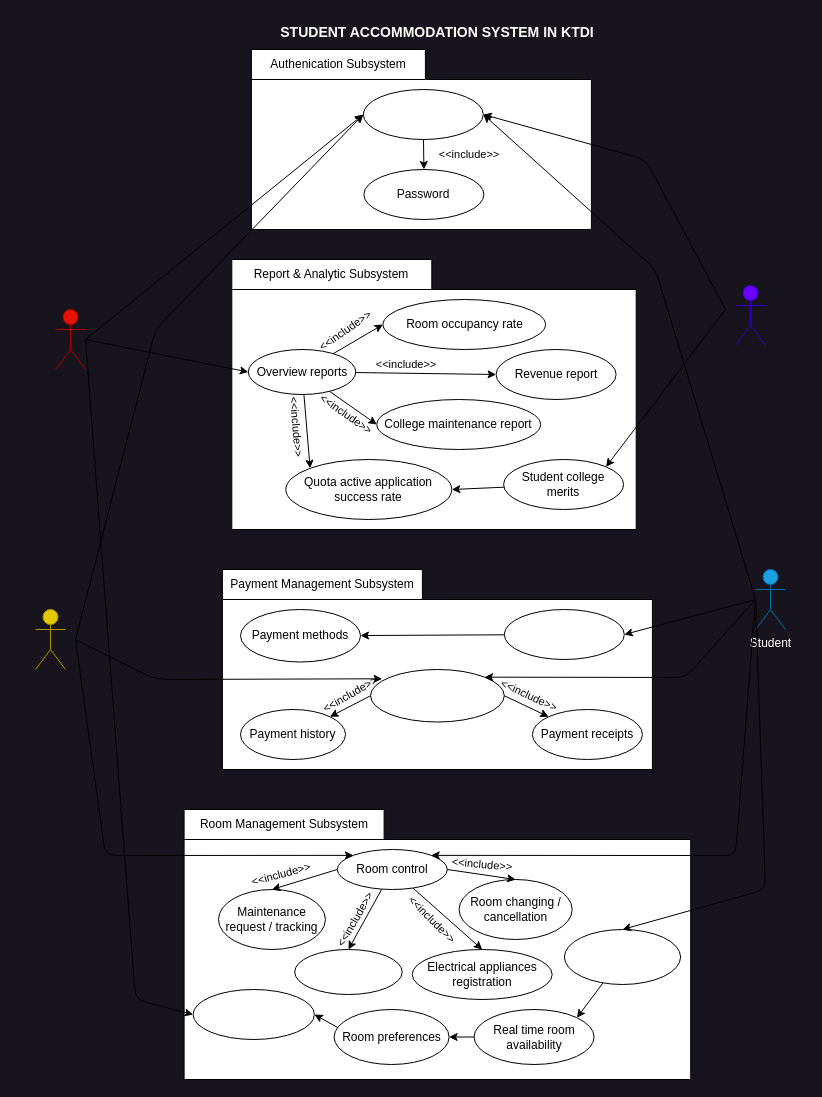
This 822x1097 diagram has some shape labels left out. Here are the shapes that lost their labels. From the top down, the box of each, then its label:
(362, 88, 483, 140): User Sign in / Login
(734, 284, 766, 346): KTDI Fellow Council
(54, 308, 86, 370): KTDI Administration
(34, 608, 66, 670): KTDI Staff
(503, 608, 624, 660): Make payments
(370, 668, 504, 722): Payment information
(294, 948, 402, 994): Check in / out
(563, 928, 681, 984): Hostel room application
(192, 988, 314, 1040): Room allocation
